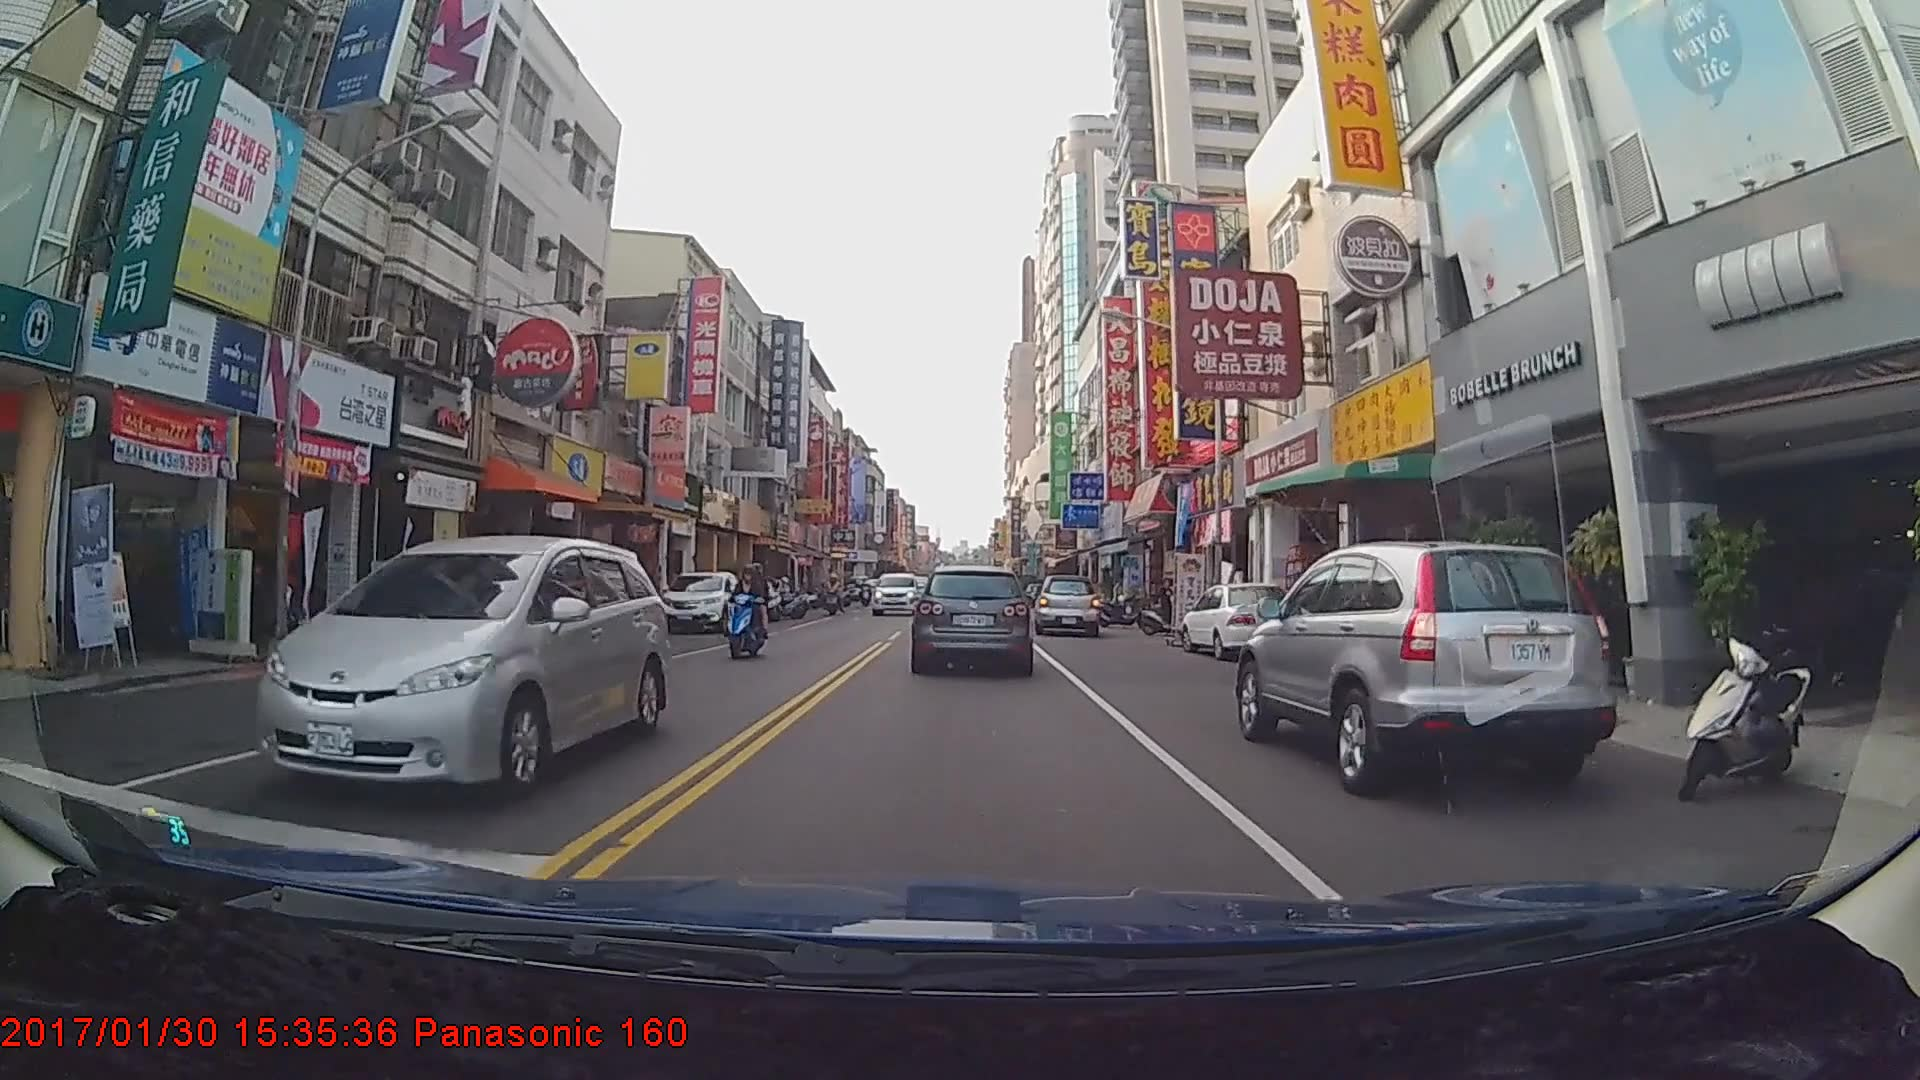rider: (715, 565, 774, 665), (1137, 579, 1193, 638)
vehicle: (252, 534, 672, 805), (1235, 537, 1612, 795), (915, 563, 1030, 673), (1177, 581, 1300, 658), (656, 570, 750, 634), (1032, 574, 1102, 637), (872, 572, 921, 616)
